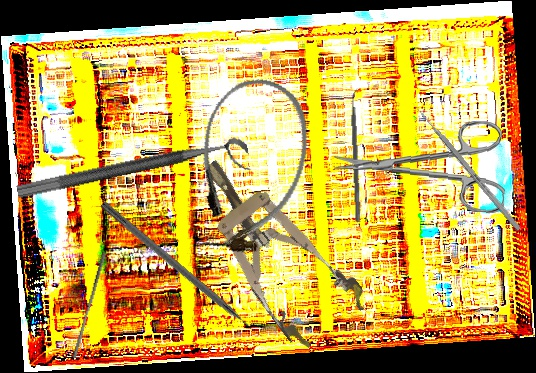Cannula: (177, 67, 323, 265)
Fixation Ring: (15, 135, 253, 219)
Hook Surgical: (98, 200, 267, 343)
Iris Scissors: (331, 113, 509, 214)
Pusher: (410, 100, 522, 232), (71, 250, 107, 360)
Spatula Surgical: (348, 86, 367, 223)
Speculum: (175, 135, 373, 357)
